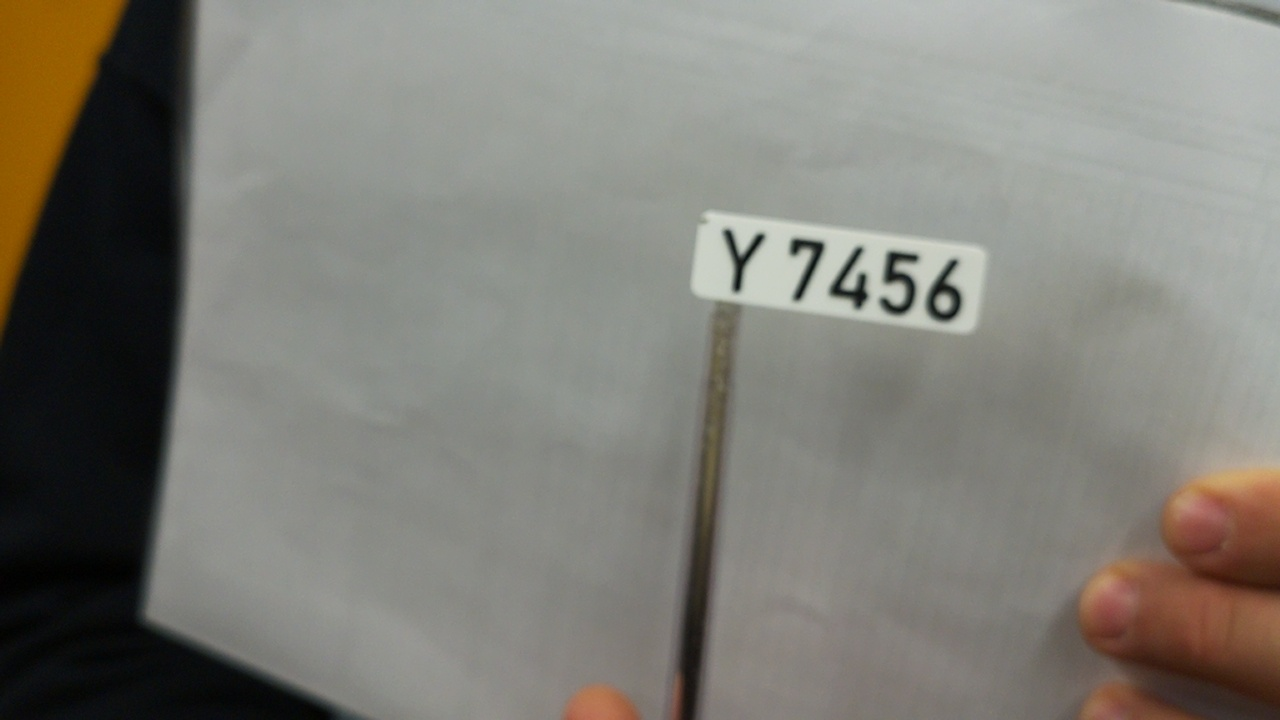license_plate: (688, 206, 990, 337)
